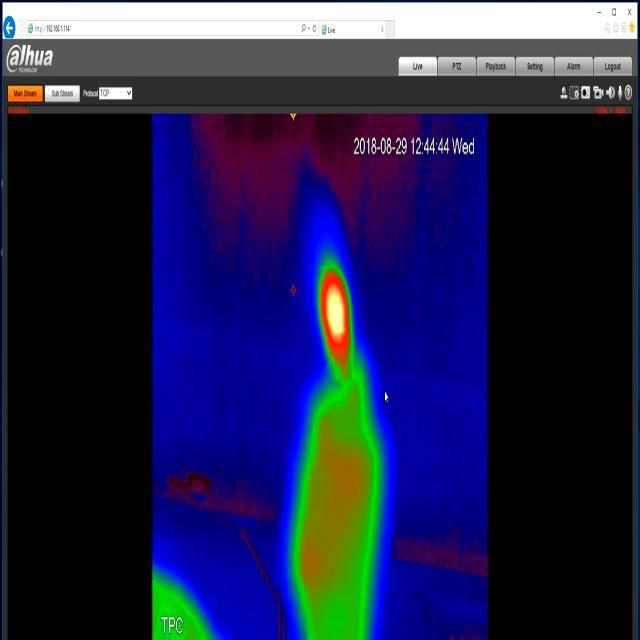fire: (318, 234, 356, 376)
